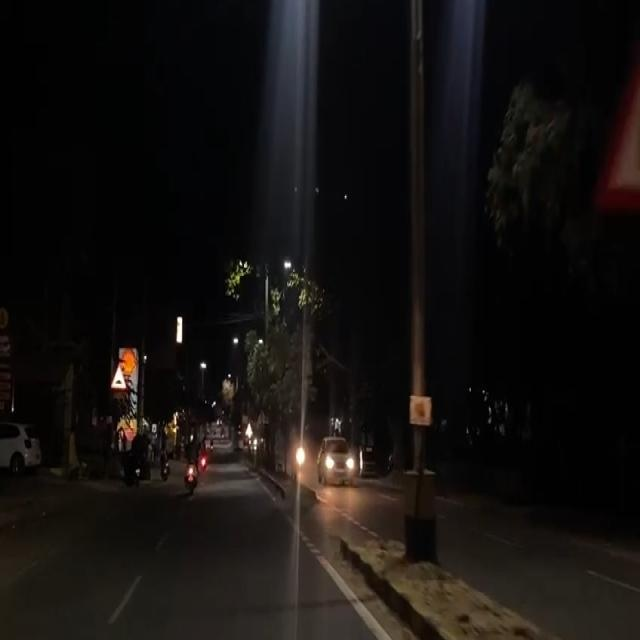bien_nguy_hiem: (110, 362, 126, 392)
